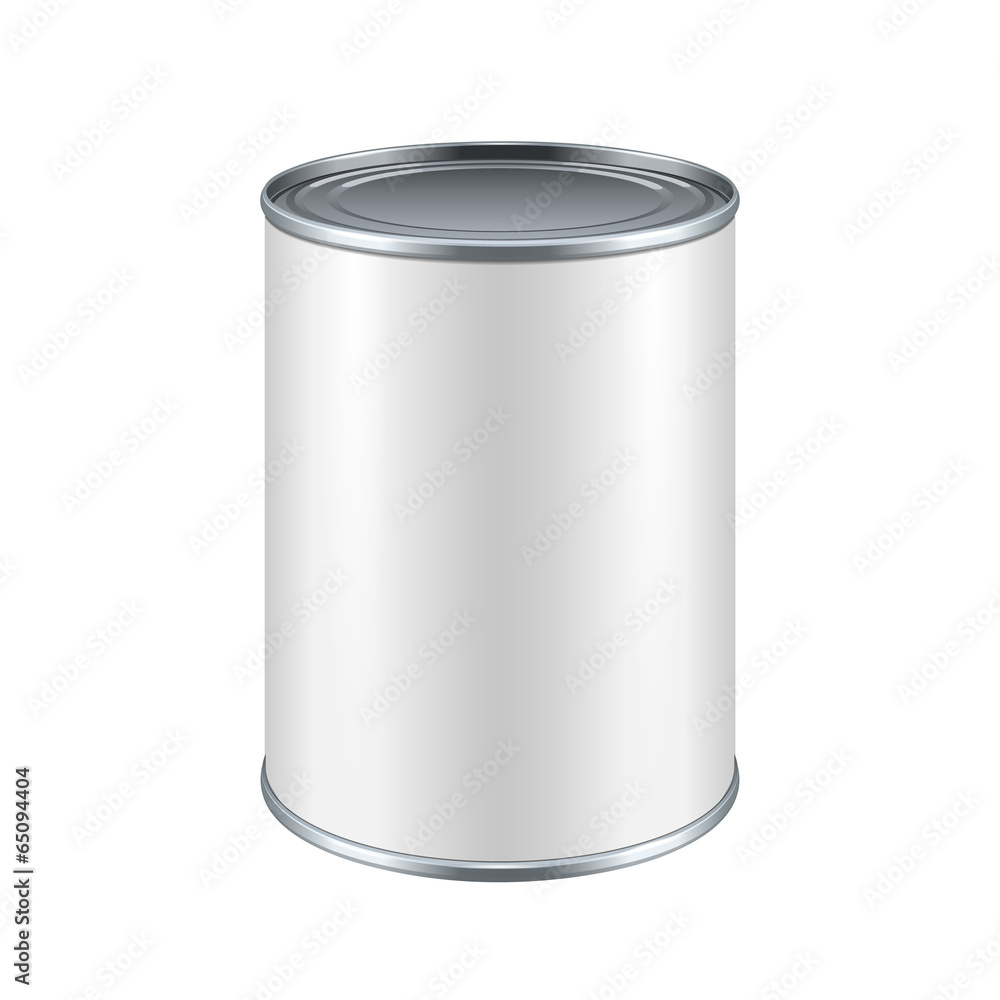can: (243, 132, 765, 887)
